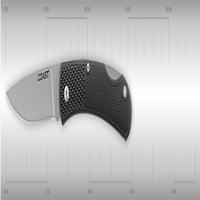knife: (3, 58, 141, 143)
